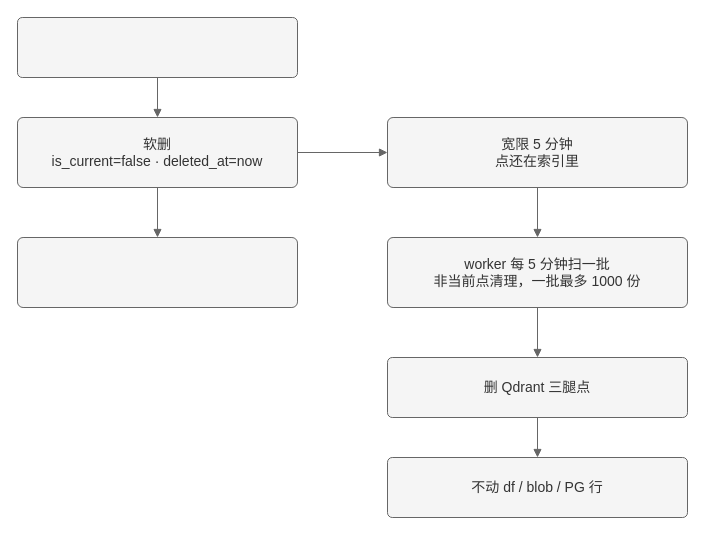
The diagram is 705 pixels wide and 535 high, and some of its shapes have lost their labels. The shapes that lost their labels are listed below. From the top down, each one's centre as x and y in pixels, then its label:
point 157,47: DELETE /documents/{id}
point 157,272: 检索二次过滤 立刻搜不到
